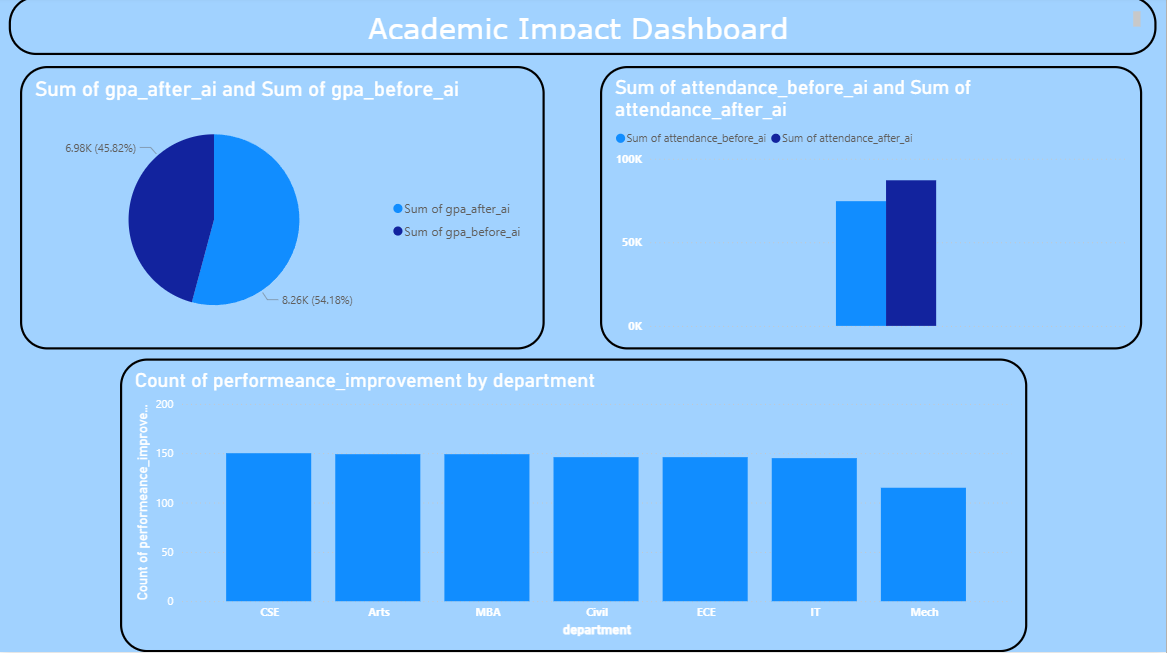

What the dashboard file says about the page in this screenshot:
{"tool":"powerbi","page":{"name":"Page 2","canvas":[1280,720],"ordinal":1},"visuals":[{"type":"textbox","box":[9.6,0,1259.7,64.5],"z":0},{"type":"pieChart","fields":{"Y":["Sum(performance.gpa_after_ai)","Sum(performance.gpa_before_ai)"]},"box":[22,76.8,576.3,311.5],"z":1000},{"type":"clusteredColumnChart","fields":{"Y":["Sum(performance.attendance_before_ai)","Sum(performance.attendance_after_ai)"]},"box":[658.7,76.8,595.5,311.5],"z":2000},{"type":"columnChart","fields":{"Category":["students.department"],"Y":["CountNonNull(performance.performeance_improvement)"]},"box":[131.7,397.9,996.2,322.5],"z":3000}]}

Visuals, with their boxes in screenshot pixels (x1, y1, x2, y2), scaled from the page's 1280x720 canvas onto the 1167x653 screenshot:
textbox: bbox=[9, 0, 1157, 58]
pieChart - Sum(performance.gpa_after_ai) x Sum(performance.gpa_before_ai): bbox=[20, 70, 545, 352]
clusteredColumnChart - Sum(performance.attendance_before_ai) x Sum(performance.attendance_after_ai): bbox=[601, 70, 1143, 352]
columnChart - students.department x CountNonNull(performance.performeance_improvement): bbox=[120, 361, 1028, 652]
